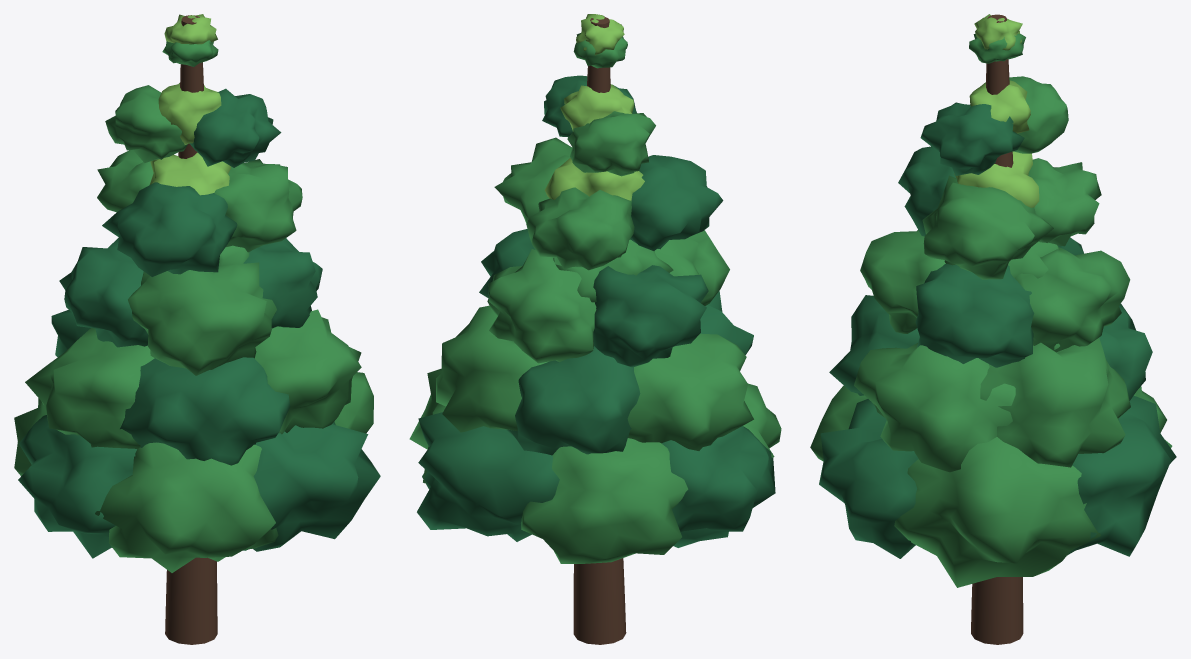
File: pine.glb
The picture shows the model from 3 angles, left to right: view 1: azimuth 30°, elevation 25°; view 2: azimuth 150°, elevation 25°; view 3: azimuth 270°, elevation 25°; orthographic projection.
Parts seen in each view (by area): view 1: leaves.126, leaves.127, leaves.147, trunk.003; view 2: leaves.126, leaves.127, leaves.147, trunk.003; view 3: leaves.126, leaves.127, leaves.147, trunk.003.
Part boxes in pixels (bbox=[...]): leaves.126: bbox=[14, 40, 373, 572]; leaves.127: bbox=[18, 88, 380, 558]; leaves.147: bbox=[149, 14, 231, 195]; trunk.003: bbox=[165, 15, 217, 644]; leaves.126: bbox=[409, 33, 781, 563]; leaves.127: bbox=[417, 75, 775, 547]; leaves.147: bbox=[544, 14, 644, 200]; trunk.003: bbox=[573, 16, 626, 644]; leaves.126: bbox=[810, 33, 1172, 587]; leaves.127: bbox=[819, 102, 1176, 558]; leaves.147: bbox=[954, 14, 1039, 207]; trunk.003: bbox=[971, 14, 1023, 644].
Size of the model in its own units: 4.76 by 8.28 by 4.46.
